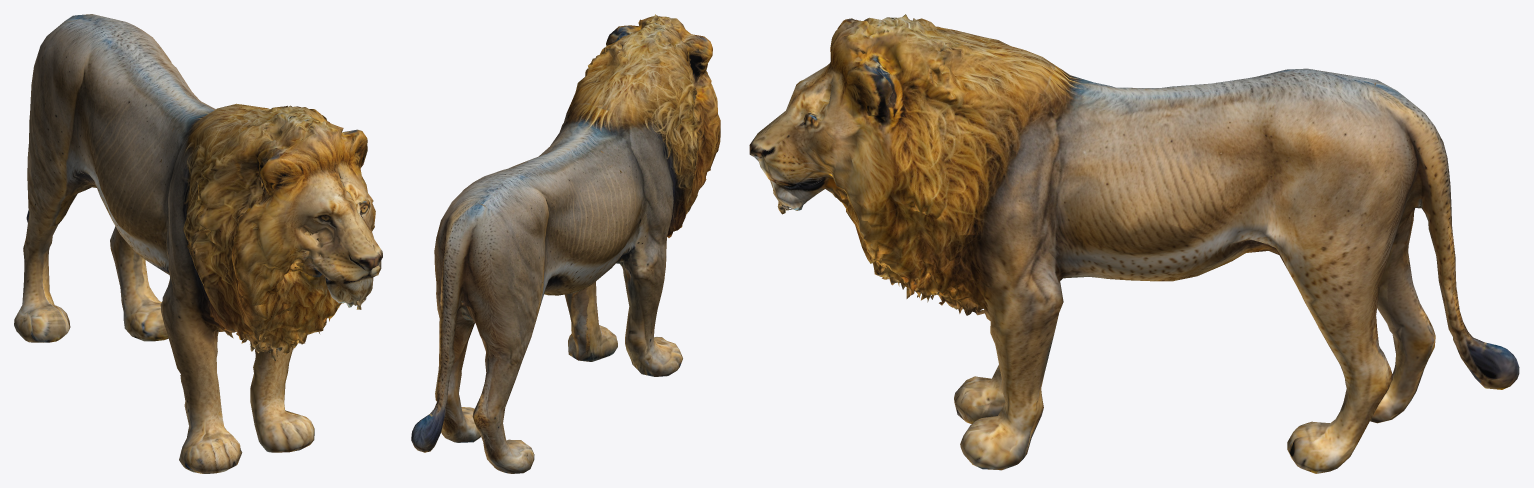
The model's file is lion.glb.
3 renders of one model, left to right at view 1: azimuth 30°, elevation 25°; view 2: azimuth 150°, elevation 25°; view 3: azimuth 270°, elevation 25°, orthographic. The views are drawn at different scales.
Bounding box in the file's own units: 0.3166 × 0.7338 × 1.2.
1 material, 1 textured.
